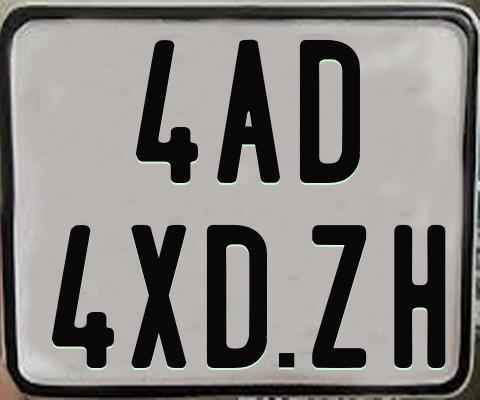4: (50, 223, 116, 372), (136, 39, 199, 182)
A: (217, 37, 282, 184)
D: (300, 40, 366, 185), (204, 223, 267, 367)
H: (393, 224, 447, 367)
X: (128, 224, 189, 371)
Z: (309, 224, 368, 368)
